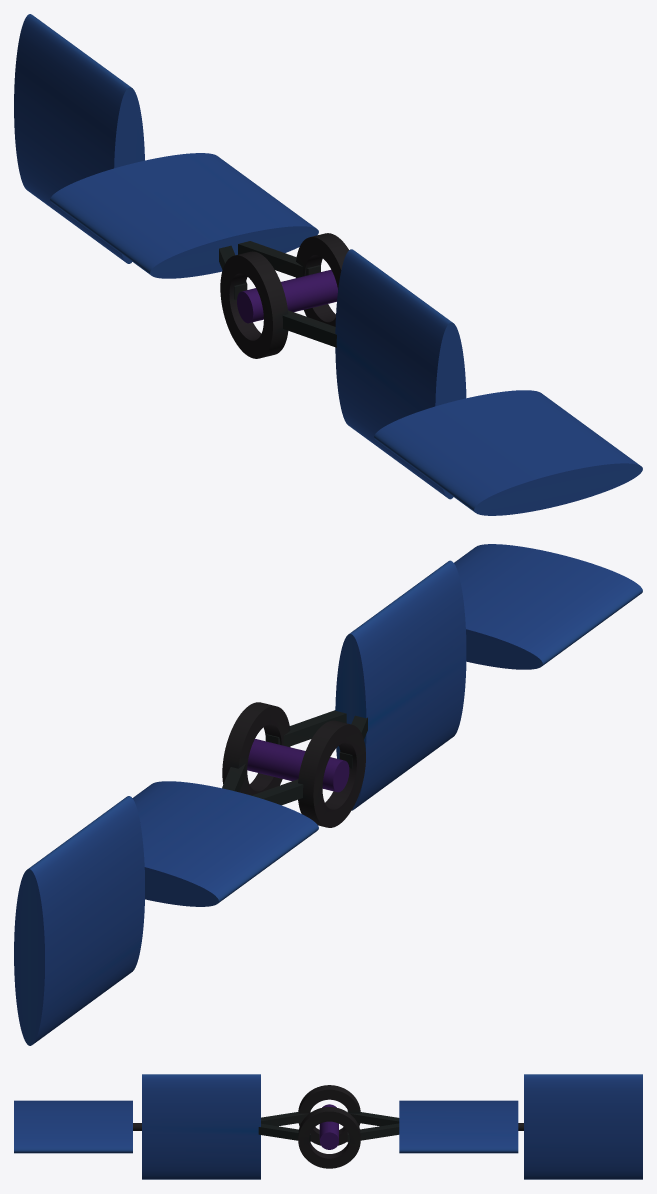
The picture shows the model from 3 angles, top to bottom: view 1: azimuth 30°, elevation 25°; view 2: azimuth 150°, elevation 25°; view 3: azimuth 270°, elevation 25°; orthographic projection. The views are drawn at different scales.
Parts seen in each view (by area): view 1: flat_panel, flat_panel.001, upright_panel, upright_panel.001, hoop.001, shaft, hoop, angled_bar.003, angled_bar; view 2: upright_panel.001, upright_panel, flat_panel, flat_panel.001, hoop.001, hoop, shaft, angled_bar.001, angled_bar.002; view 3: upright_panel.001, upright_panel, flat_panel.001, flat_panel, hoop, hoop.001, shaft, angled_bar.003, angled_bar.001, angled_bar.002, angled_bar.
Boxes of the visible parts, x1=… form: flat_panel: x1=374, y1=390, x2=642, y2=515; flat_panel.001: x1=50, y1=153, x2=318, y2=278; upright_panel: x1=335, y1=249, x2=466, y2=499; upright_panel.001: x1=14, y1=14, x2=144, y2=263; hoop.001: x1=220, y1=251, x2=288, y2=358; shaft: x1=237, y1=269, x2=337, y2=323; hoop: x1=296, y1=233, x2=348, y2=326; angled_bar.003: x1=238, y1=241, x2=320, y2=277; angled_bar: x1=282, y1=310, x2=336, y2=347; upright_panel.001: x1=14, y1=796, x2=144, y2=1045; upright_panel: x1=335, y1=560, x2=466, y2=810; flat_panel: x1=454, y1=544, x2=642, y2=669; flat_panel.001: x1=132, y1=781, x2=318, y2=906; hoop.001: x1=298, y1=720, x2=365, y2=827; hoop: x1=222, y1=702, x2=290, y2=795; shaft: x1=247, y1=739, x2=349, y2=792; angled_bar.001: x1=265, y1=710, x2=346, y2=746; angled_bar.002: x1=252, y1=779, x2=303, y2=805; upright_panel.001: x1=524, y1=1074, x2=642, y2=1179; upright_panel: x1=142, y1=1074, x2=260, y2=1179; flat_panel.001: x1=399, y1=1100, x2=518, y2=1153; flat_panel: x1=14, y1=1100, x2=132, y2=1153; hoop: x1=298, y1=1107, x2=360, y2=1168; hoop.001: x1=298, y1=1085, x2=360, y2=1145; shaft: x1=319, y1=1104, x2=338, y2=1149; angled_bar.003: x1=347, y1=1123, x2=399, y2=1142; angled_bar.001: x1=258, y1=1123, x2=310, y2=1142; angled_bar.002: x1=347, y1=1110, x2=399, y2=1126; angled_bar: x1=261, y1=1111, x2=310, y2=1126.
Bounding box in the file's own units: 2.21 × 2.21 × 12.
